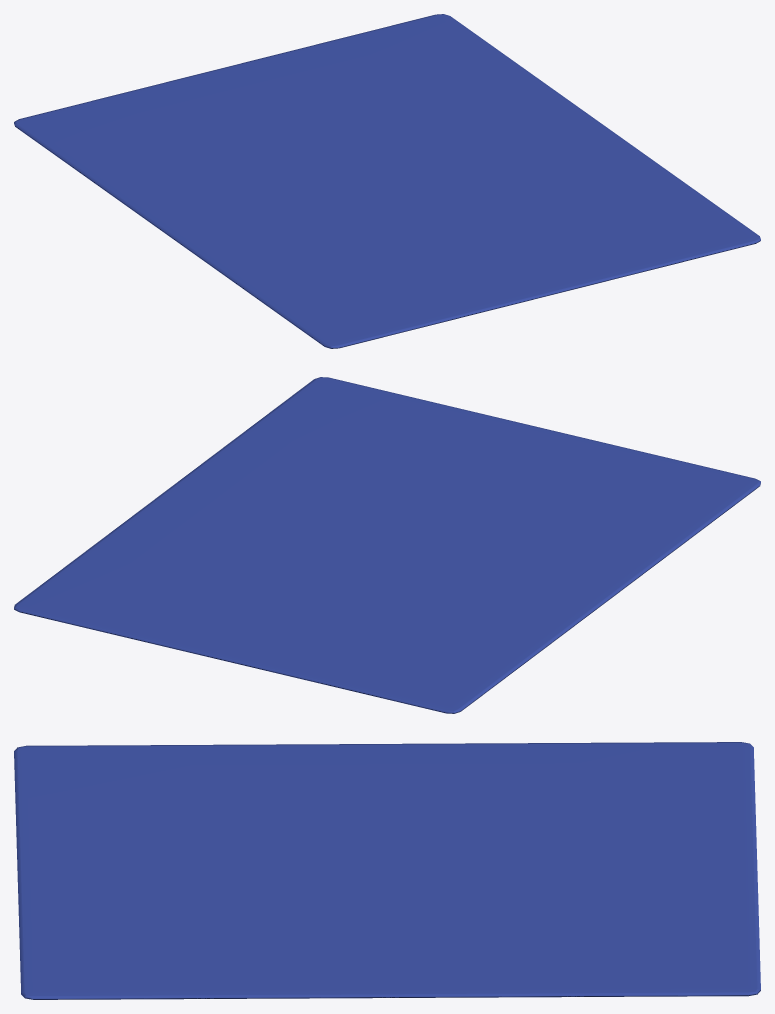
The model's file is Cover_mesh.fbx.
The picture shows the model from 3 angles, top to bottom: view 1: azimuth 30°, elevation 25°; view 2: azimuth 150°, elevation 25°; view 3: azimuth 270°, elevation 25°; orthographic projection. The views are drawn at different scales.
Visible parts, largest first — view 1: Cover; view 2: Cover; view 3: Cover.
Part boxes in pixels (x1,y1,x2,y2): Cover: [14, 14, 760, 348]; Cover: [14, 377, 760, 713]; Cover: [14, 742, 760, 999].
Size of the model in its own units: 18.68 by 0.1125 by 23.01.
